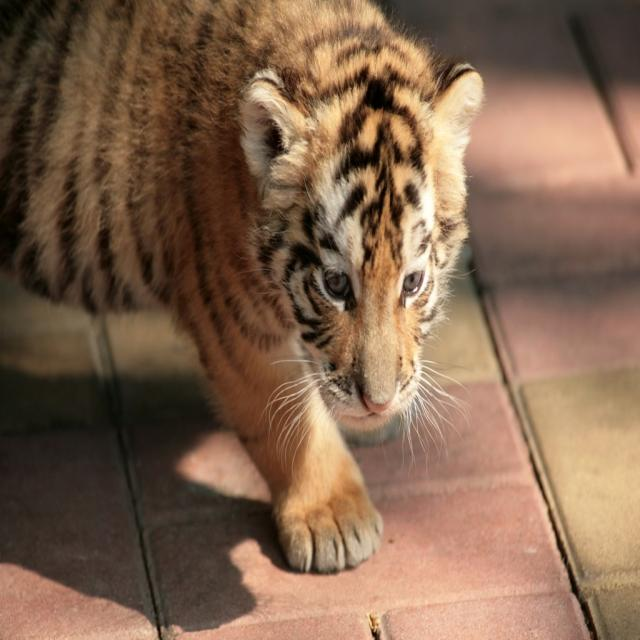Tiger: (0, 0, 488, 594)
